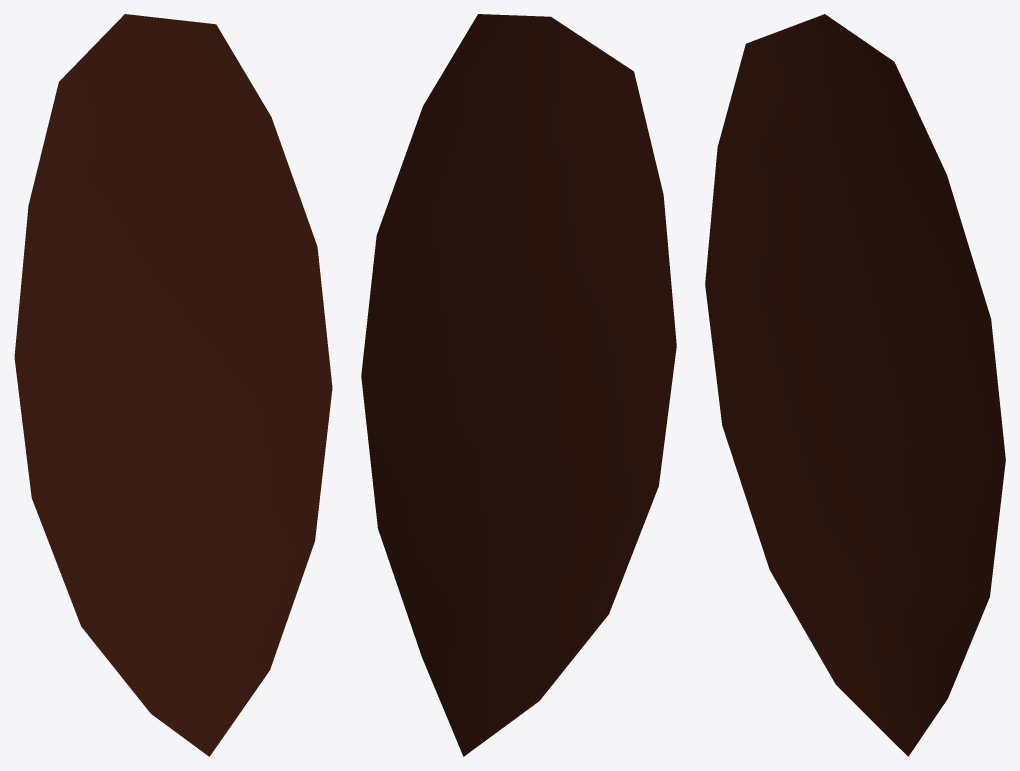
File: rooster_feather_flight_tertiary_047.obj
The picture shows the model from 3 angles, left to right: view 1: azimuth 30°, elevation 25°; view 2: azimuth 150°, elevation 25°; view 3: azimuth 330°, elevation 25°; orthographic projection. The views are drawn at different scales.
Parts seen in each view (by area): view 1: feather_flight_tertiary_047; view 2: feather_flight_tertiary_047; view 3: feather_flight_tertiary_047.
Part boxes in pixels (x1,y1,x2,y2): feather_flight_tertiary_047: [14, 14, 332, 756]; feather_flight_tertiary_047: [361, 14, 676, 756]; feather_flight_tertiary_047: [705, 14, 1005, 756].
Bounding box in the file's own units: 0.0103 × 0.0237 × 0.000601.
